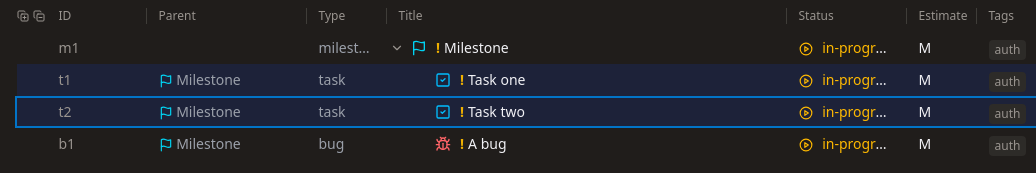
Test: TreeTable › prune multi-select on filter change › keeps the multi-selection intact when a parent row is collapsed (no filter)
The image size is (1036, 173).
Note: Collapse the milestone — hides the two selected tasks from view.
Click the 3rd button at (396, 48), box x1=386 y1=38 x2=406 y2=58
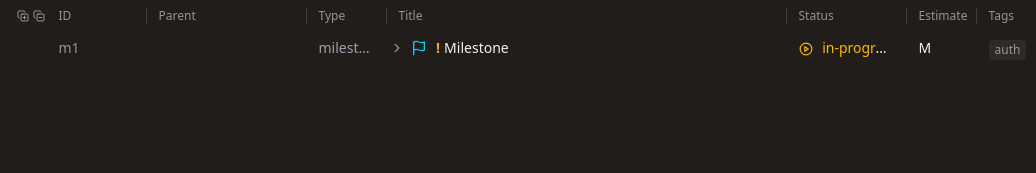
Expected: the button "Task one" is gone
